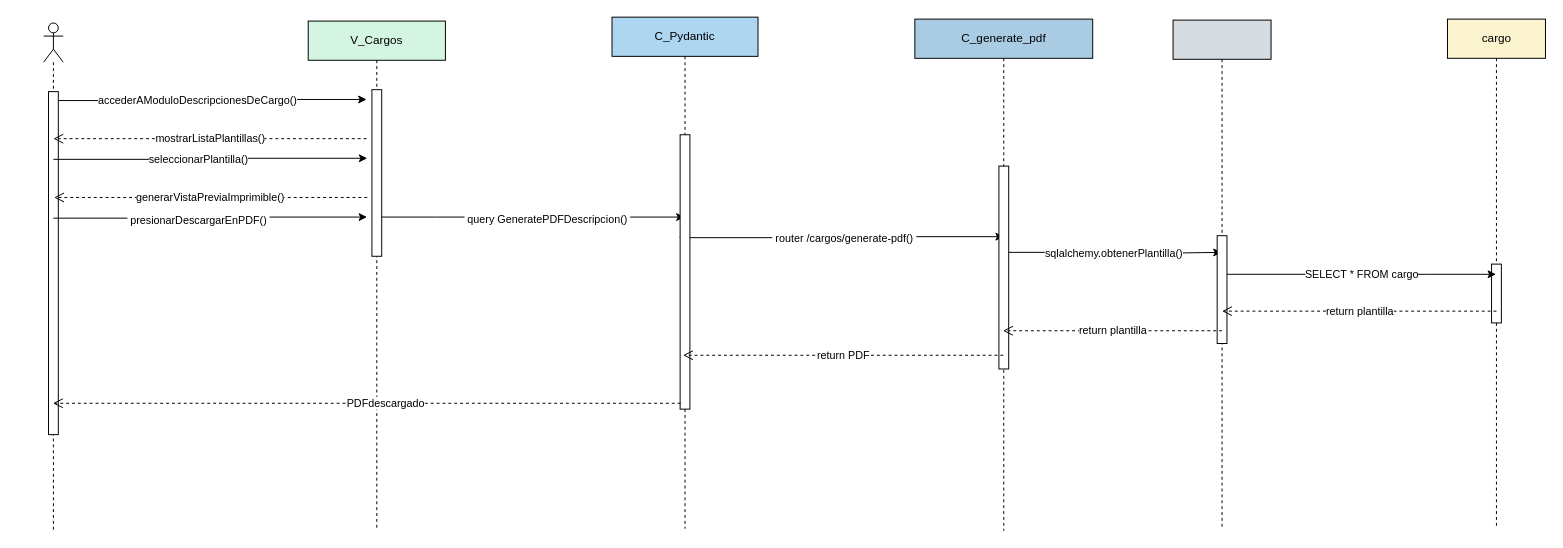
The diagram is 1563 pixels wide and 548 high, and some of its shapes have lost their labels. The box of each missing label's shape, as (x1, y1, x2, y2) in pixels:
C_Sqlalchemy: (1172, 19, 1271, 530)
RRHH, Administrador: (43, 22, 63, 531)
